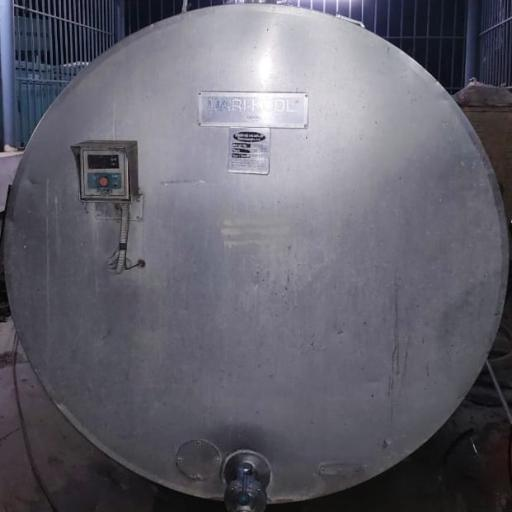silo: (2, 0, 511, 504)
